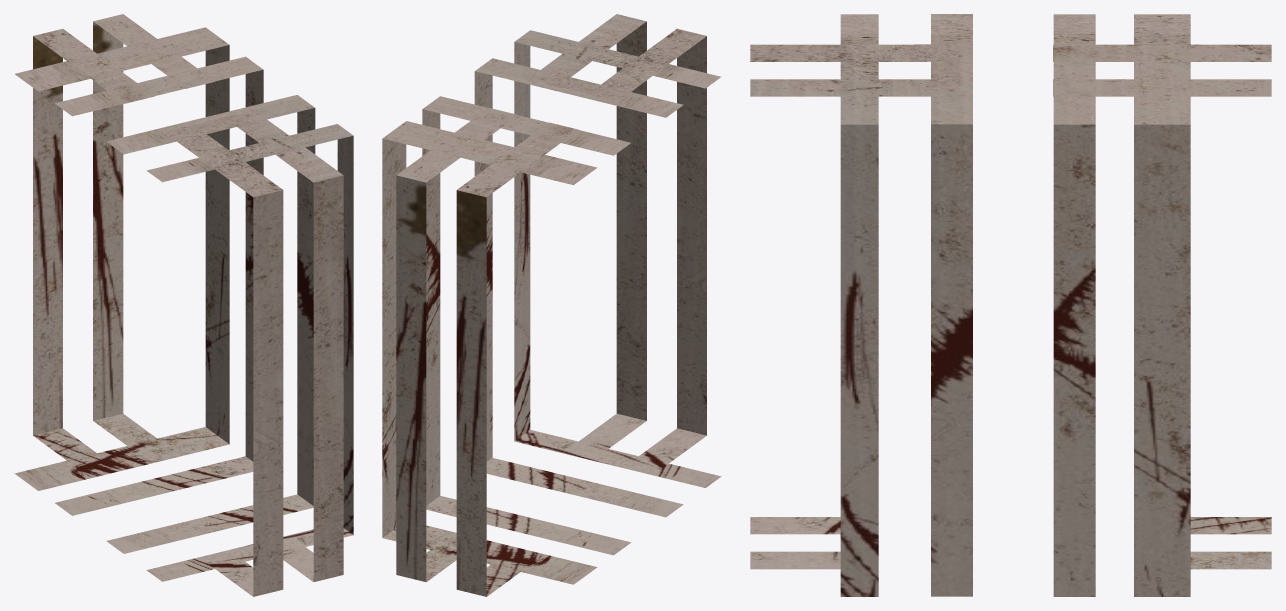
The model's file is lampbox.glb.
3 views of the same model, side by side, from view 1: azimuth 30°, elevation 25°; view 2: azimuth 150°, elevation 25°; view 3: azimuth 270°, elevation 25° (orthographic). The views are drawn at different scales.
Parts seen in each view (by area): view 1: Cube; view 2: Cube; view 3: Cube.
Part boxes in pixels (box(x1,y1,x2,y2)): Cube: box(14, 14, 353, 596); Cube: box(382, 14, 721, 596); Cube: box(750, 14, 1271, 596).
Bounding box in the file's own units: 0.1865 × 0.3716 × 0.3716.
Materials: 1 (1 with a texture image).
